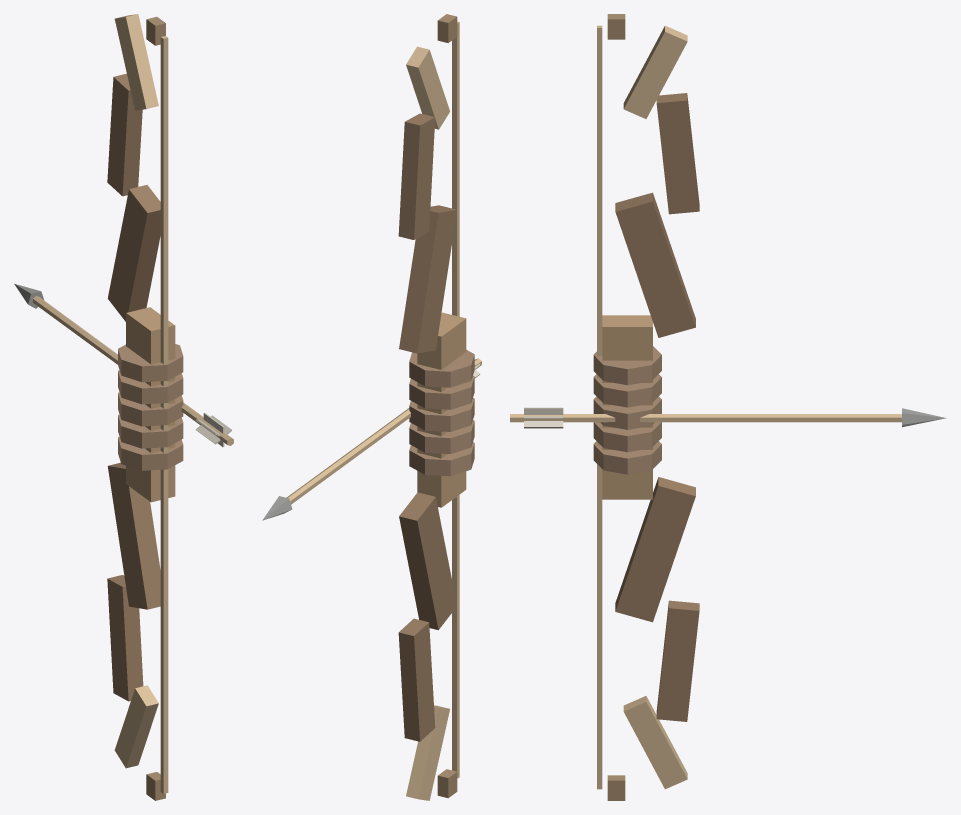
The model's file is bow.glb.
The picture shows the model from 3 angles, left to right: view 1: azimuth 30°, elevation 25°; view 2: azimuth 150°, elevation 25°; view 3: azimuth 270°, elevation 25°; orthographic projection.
Visible parts, largest first — view 1: bow; view 2: bow; view 3: bow.
Part boxes in pixels (left/top/right/bottom): bow: left=14, top=14, right=233, bottom=800; bow: left=262, top=14, right=481, bottom=800; bow: left=510, top=14, right=946, bottom=800.
Bounding box in the file's own units: 0.1241 × 1.54 × 0.78.
